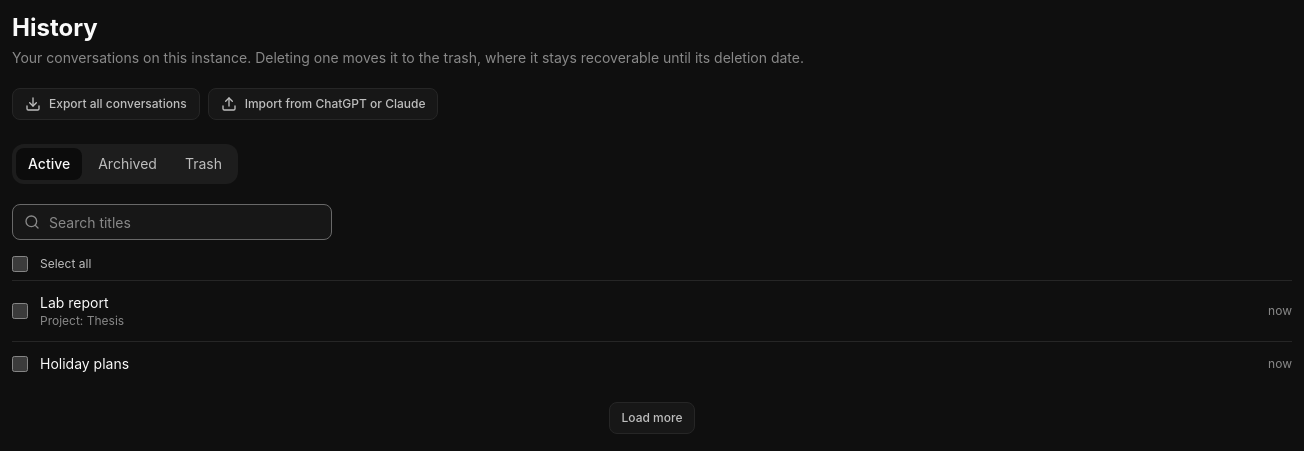
Test: Settings → History › gives every title and project line that can be cut short a tooltip (#130)
Click the tab "Trash".
click(203, 164)  # box left=173, top=148, right=234, bottom=180
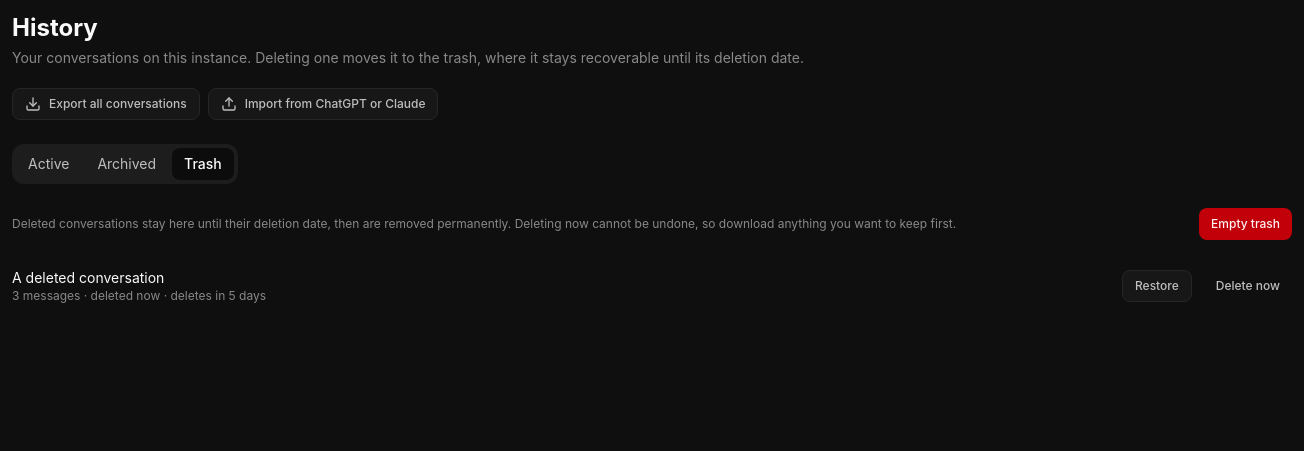
Result: the text "A deleted conversation" is shown at left=12, top=269, right=164, bottom=286
